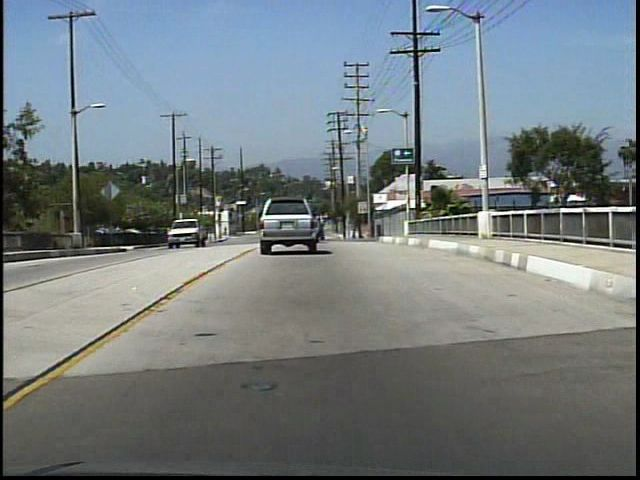car: (259, 198, 314, 249), (168, 216, 203, 249)
strada: (1, 250, 635, 468)
